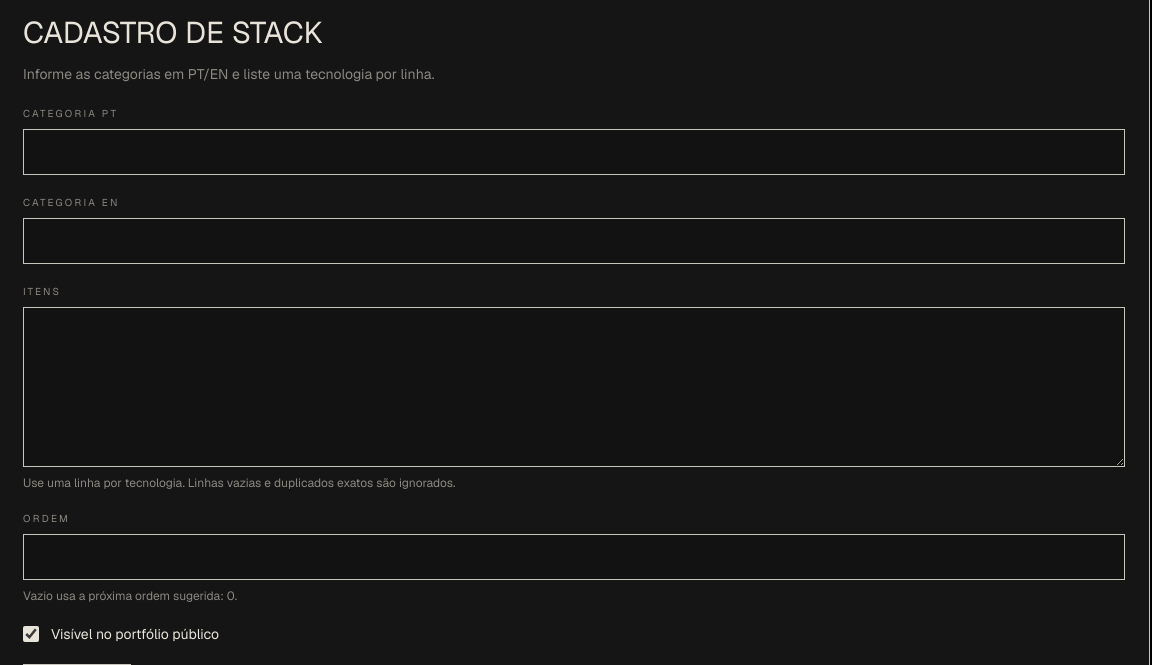
Test: TechnologyForm › shows validation errors without clearing user input
Type "Frontend" into the field labelled "Categoria PT" at (574, 152), box [23,129,1125,175]
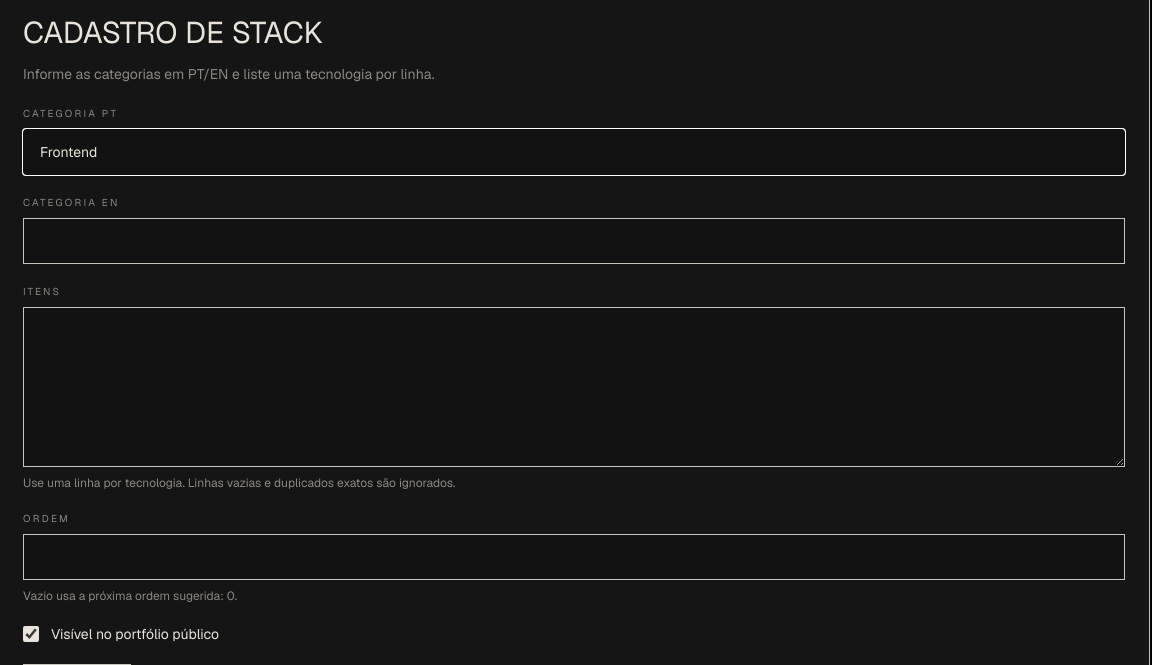
Type "React" into the text box labelled "Itens" at (574, 387), box [23,307,1125,467]
(page scrolled)
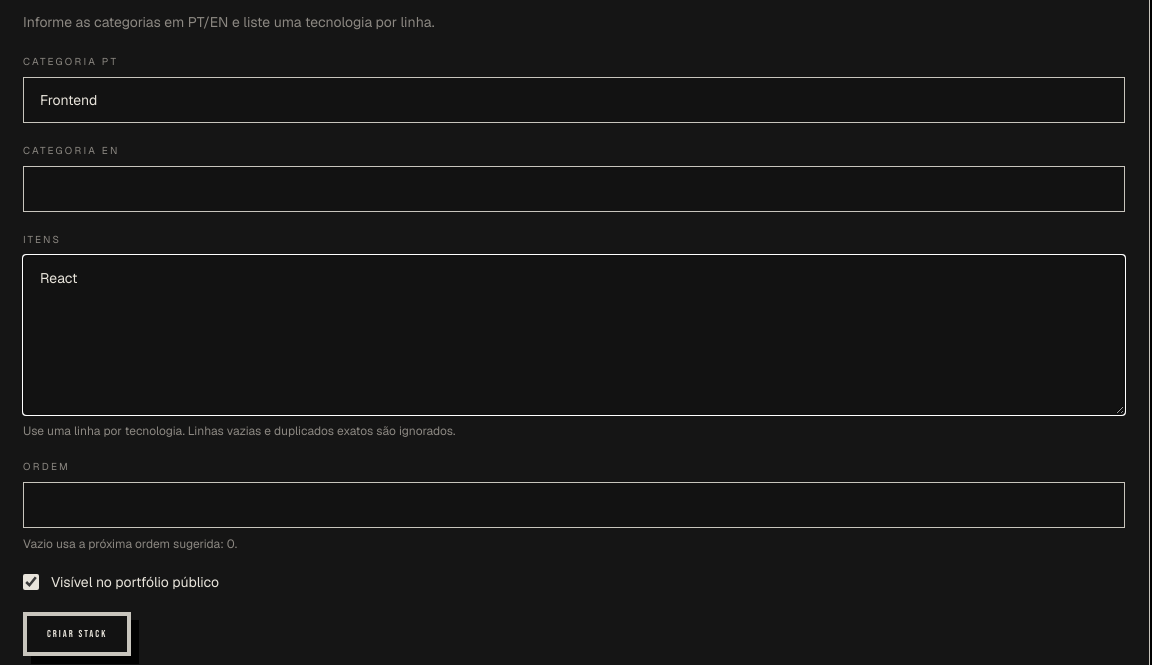
Click the button "Criar stack" at (77, 634), box [23,612,131,656]
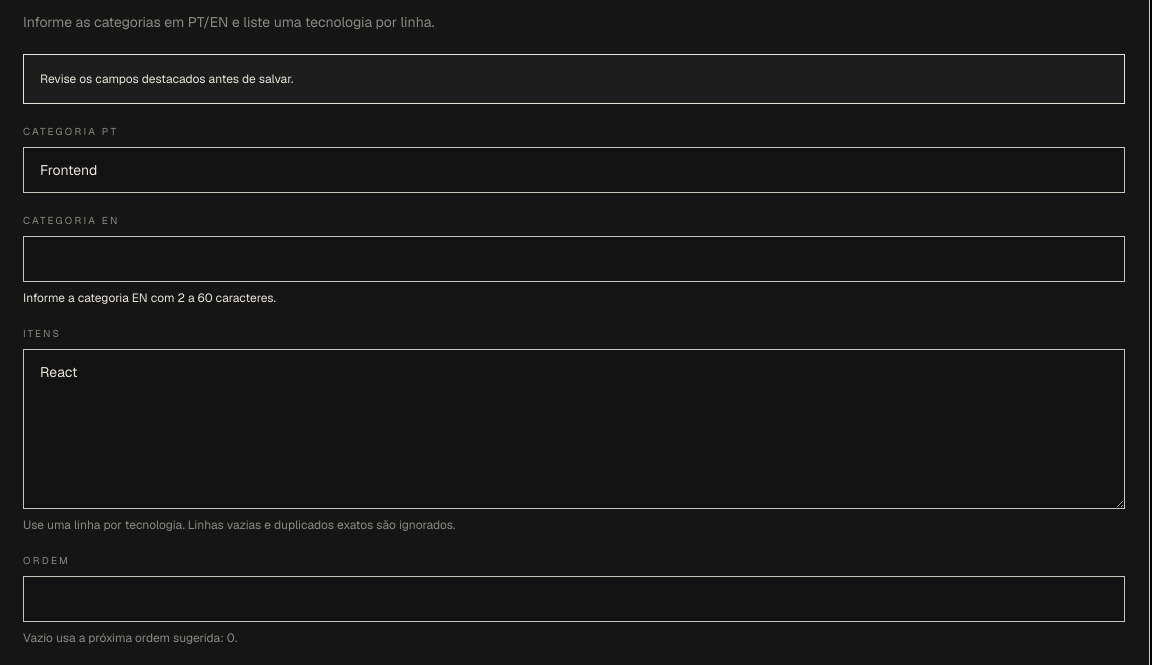
Check: the message shows "Revise", box [40,71,293,87]
